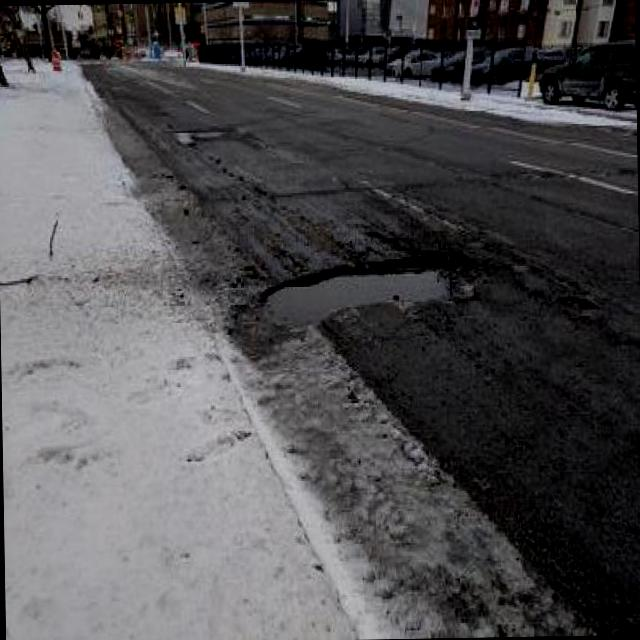pothole: (256, 250, 477, 324)
